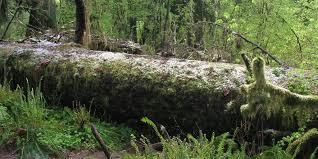Downstairs: (0, 24, 318, 143)
